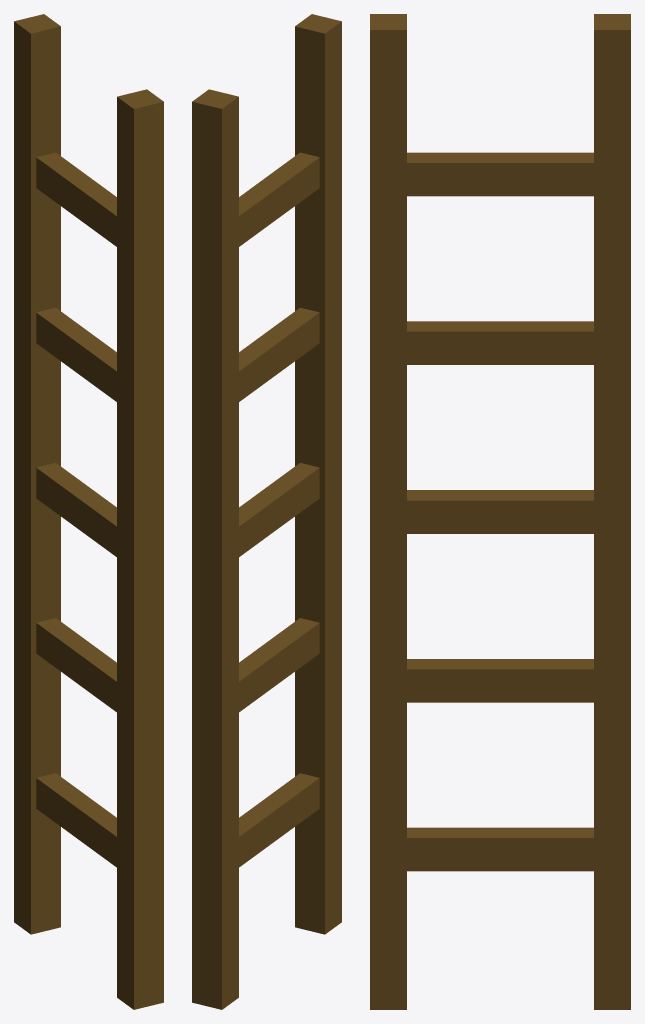
The model's file is ladder.fbx.
The picture shows the model from 3 angles, left to right: view 1: azimuth 30°, elevation 25°; view 2: azimuth 150°, elevation 25°; view 3: azimuth 270°, elevation 25°; orthographic projection. The views are drawn at different scales.
Parts seen in each view (by area): view 1: ladder; view 2: ladder; view 3: ladder.
Boxes of the visible parts, bbox=[...] form: ladder: bbox=[14, 14, 163, 1009]; ladder: bbox=[192, 14, 341, 1009]; ladder: bbox=[370, 14, 630, 1009].
Bounding box in the file's own units: 20.3 × 581 × 140.
